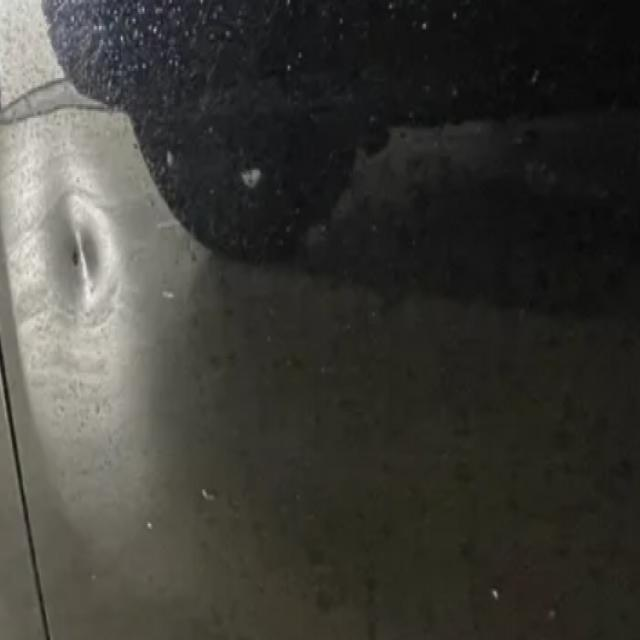dents: (38, 192, 127, 342)
